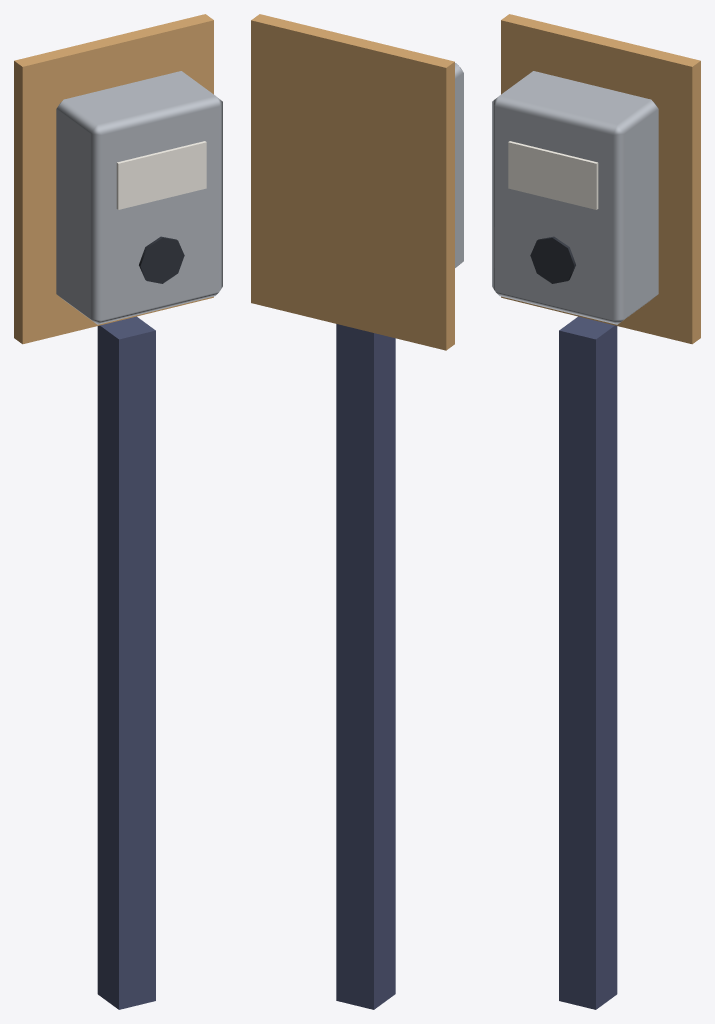
Rendered from station_intake_ausstattung_3_0.glb.
3 renders of one model, left to right at view 1: azimuth 30°, elevation 25°; view 2: azimuth 150°, elevation 25°; view 3: azimuth 330°, elevation 25°, orthographic.
Parts seen in each view (by area): view 1: station_intake_ausstattung_3_0; view 2: station_intake_ausstattung_3_0; view 3: station_intake_ausstattung_3_0.
Boxes of the visible parts, left/top/right/bottom form: station_intake_ausstattung_3_0: left=14, top=14, right=222, bottom=1009; station_intake_ausstattung_3_0: left=251, top=14, right=463, bottom=1009; station_intake_ausstattung_3_0: left=492, top=14, right=700, bottom=1009.
Bounding box in the file's own units: 0.26 × 1.23 × 0.124.
